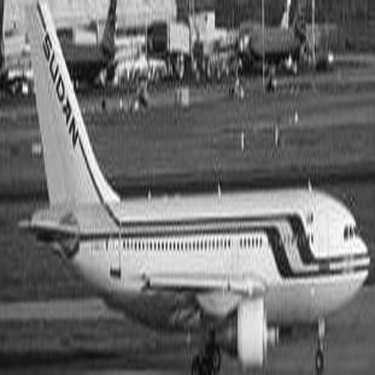airplane: (6, 1, 369, 370), (7, 4, 127, 97), (212, 1, 322, 73)
